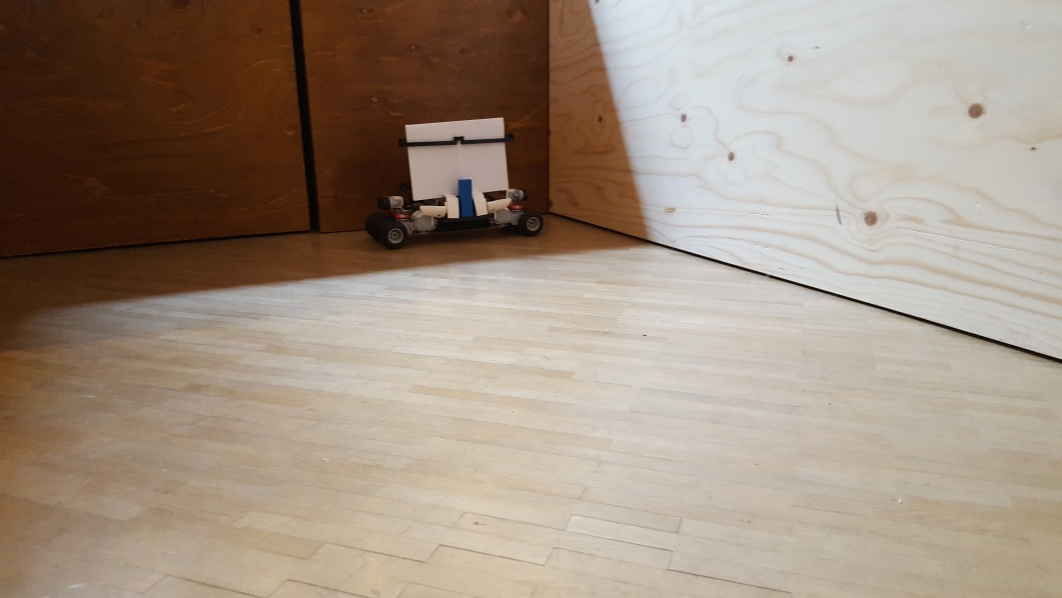car: (366, 113, 545, 249)
